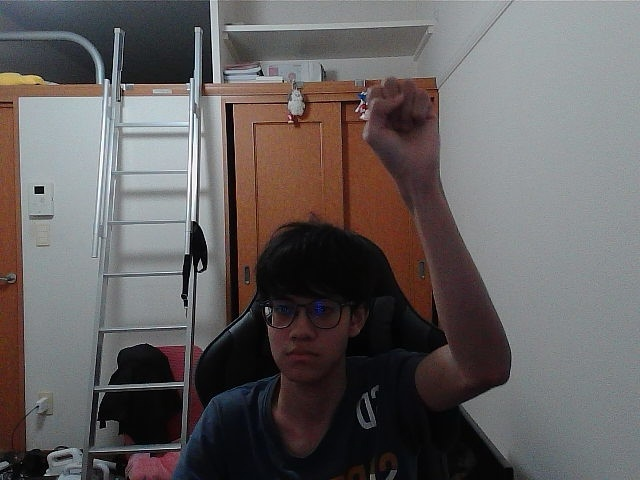closed_palm: (372, 87, 428, 162)
